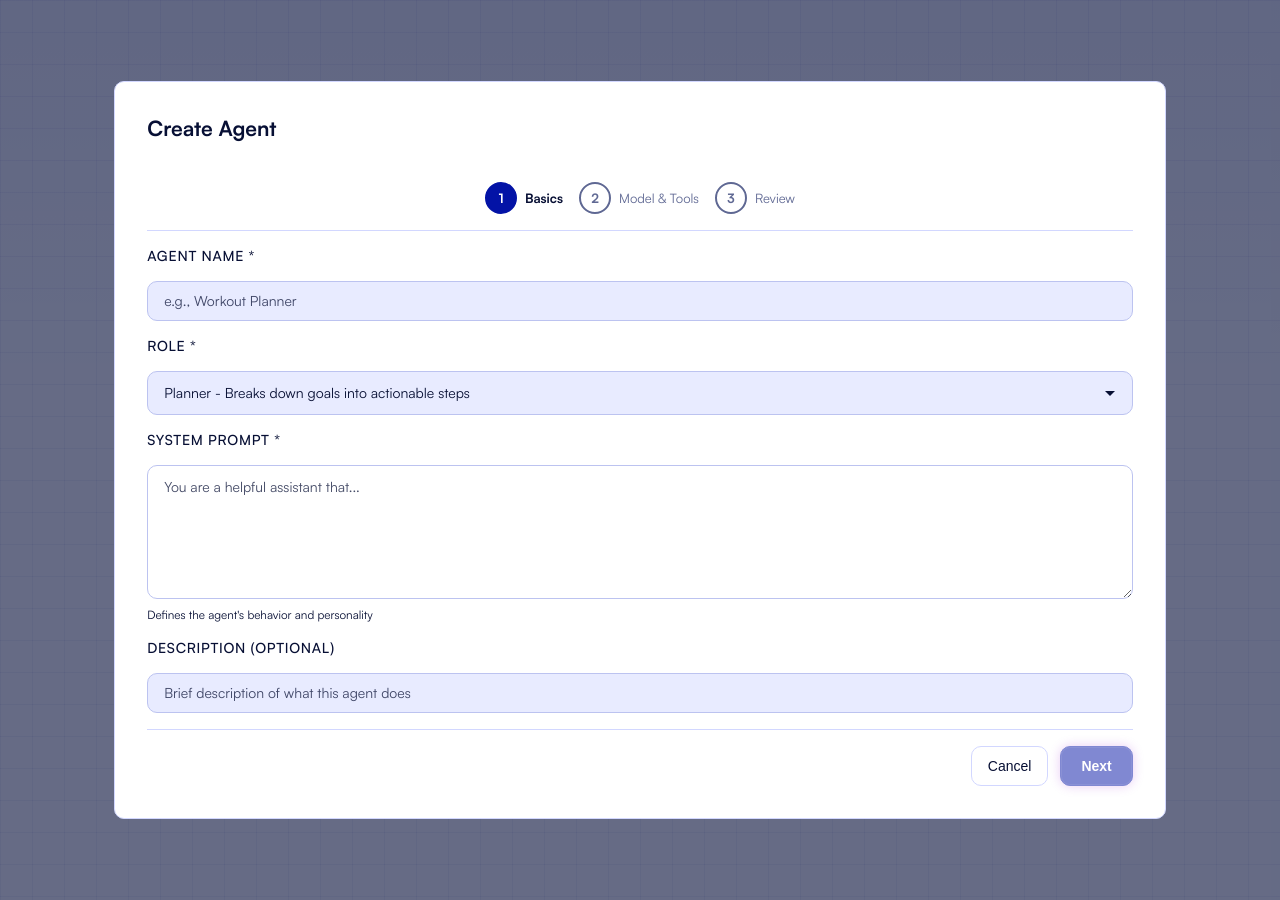
it: AgentBuilderWizard › review shows summary on step 3
Fill step 1
Step 1. Type "Review Agent" into the field with placeholder "e.g., Workout Planner" → point(640, 301), box top-left (147, 281), bottom-right (1133, 321)
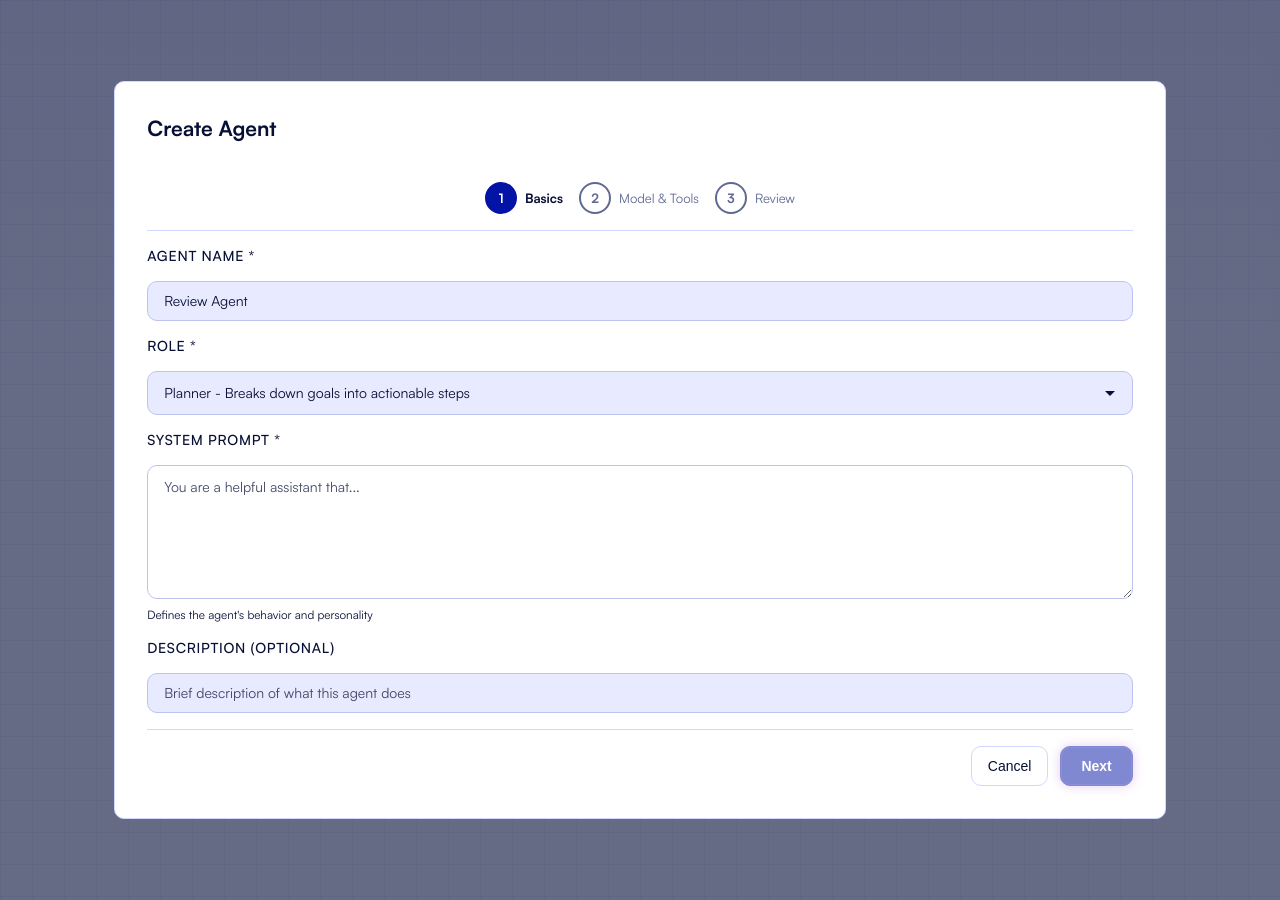
Step 2. Type "A prompt for review." into the text box with placeholder "You are a helpful assistant that..." → point(640, 532), box top-left (147, 465), bottom-right (1133, 599)
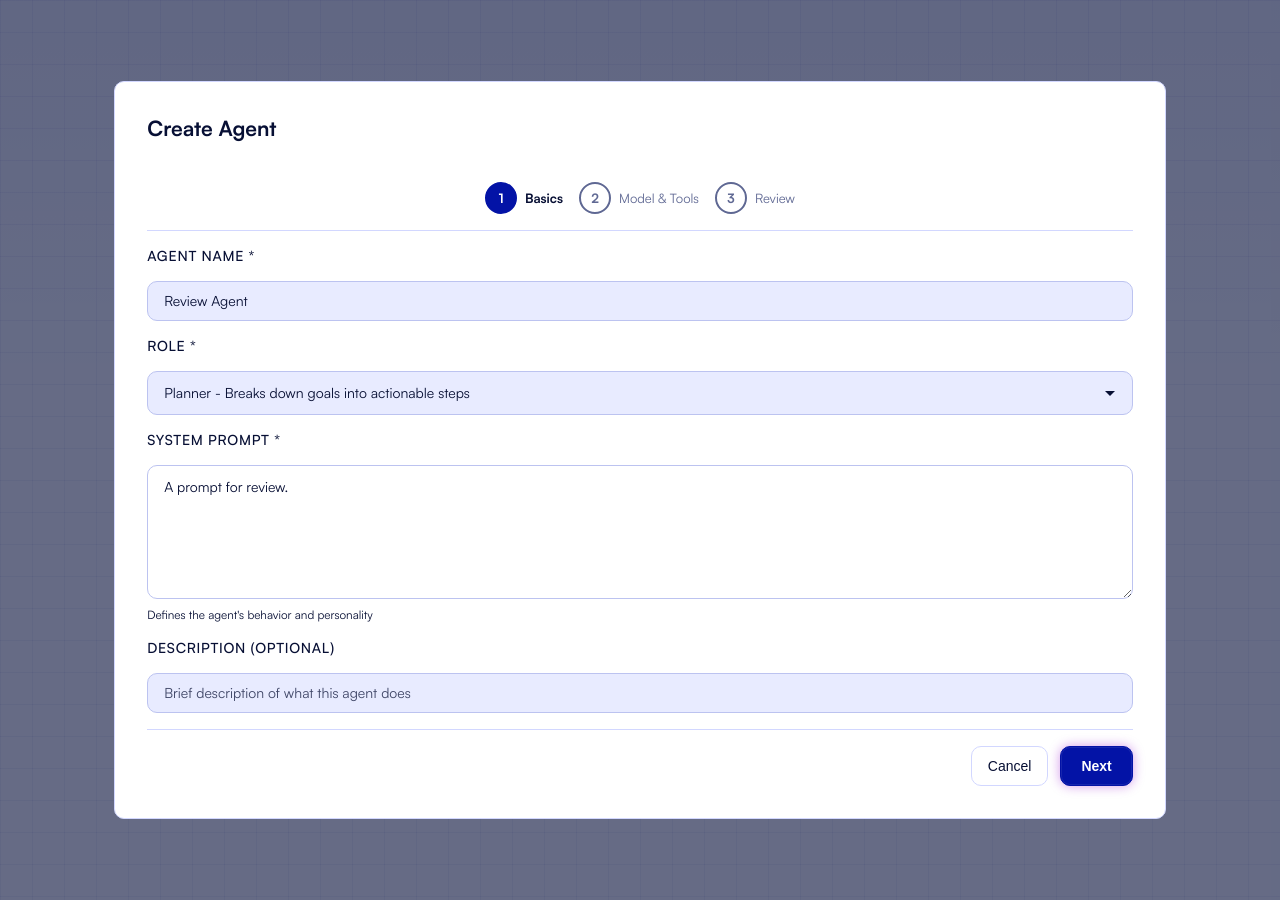
Step 3. Click the button "Next" → point(1097, 766), box top-left (1060, 746), bottom-right (1133, 786)
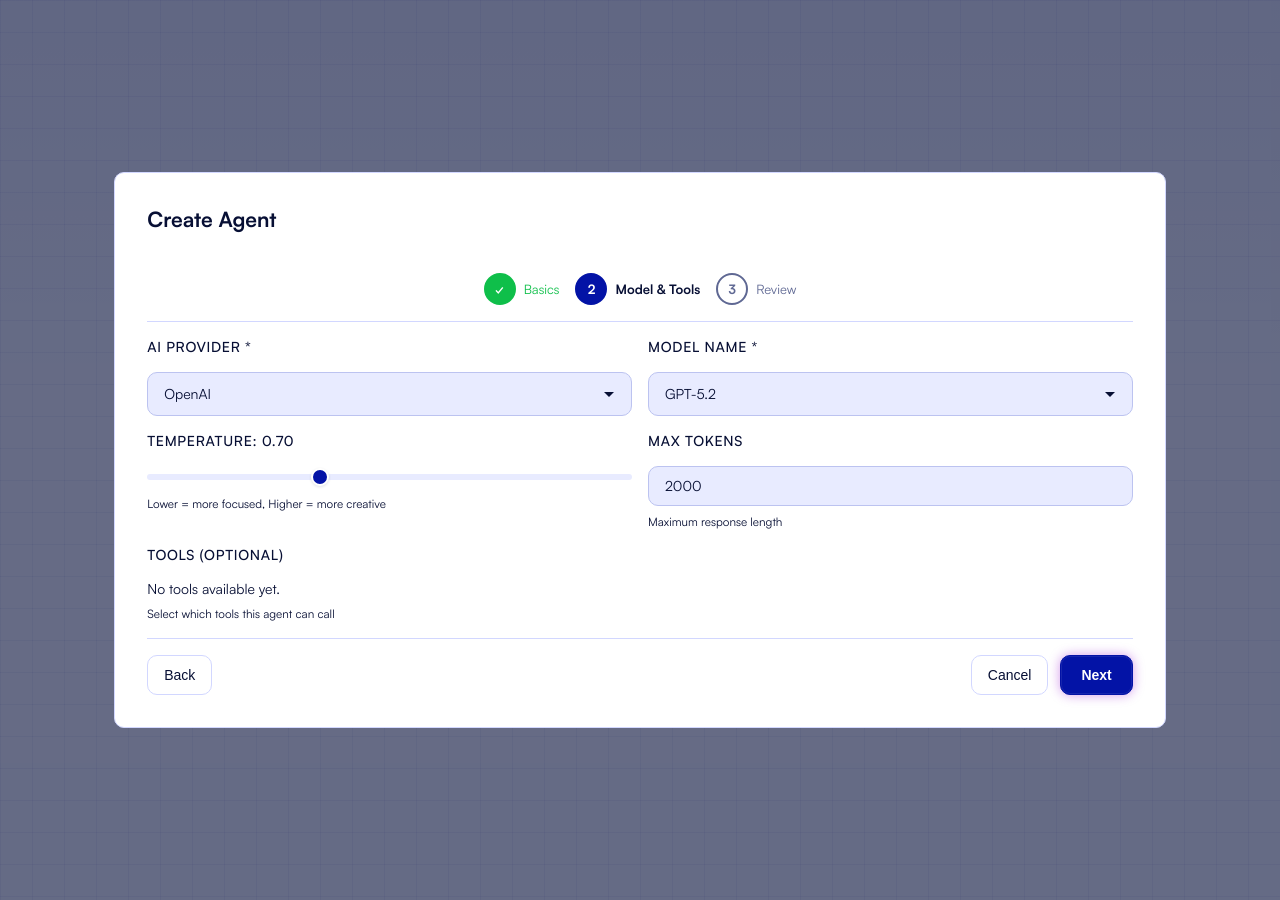
click Next
Step 4. Click the button "Next" → point(1097, 675), box top-left (1060, 655), bottom-right (1133, 695)
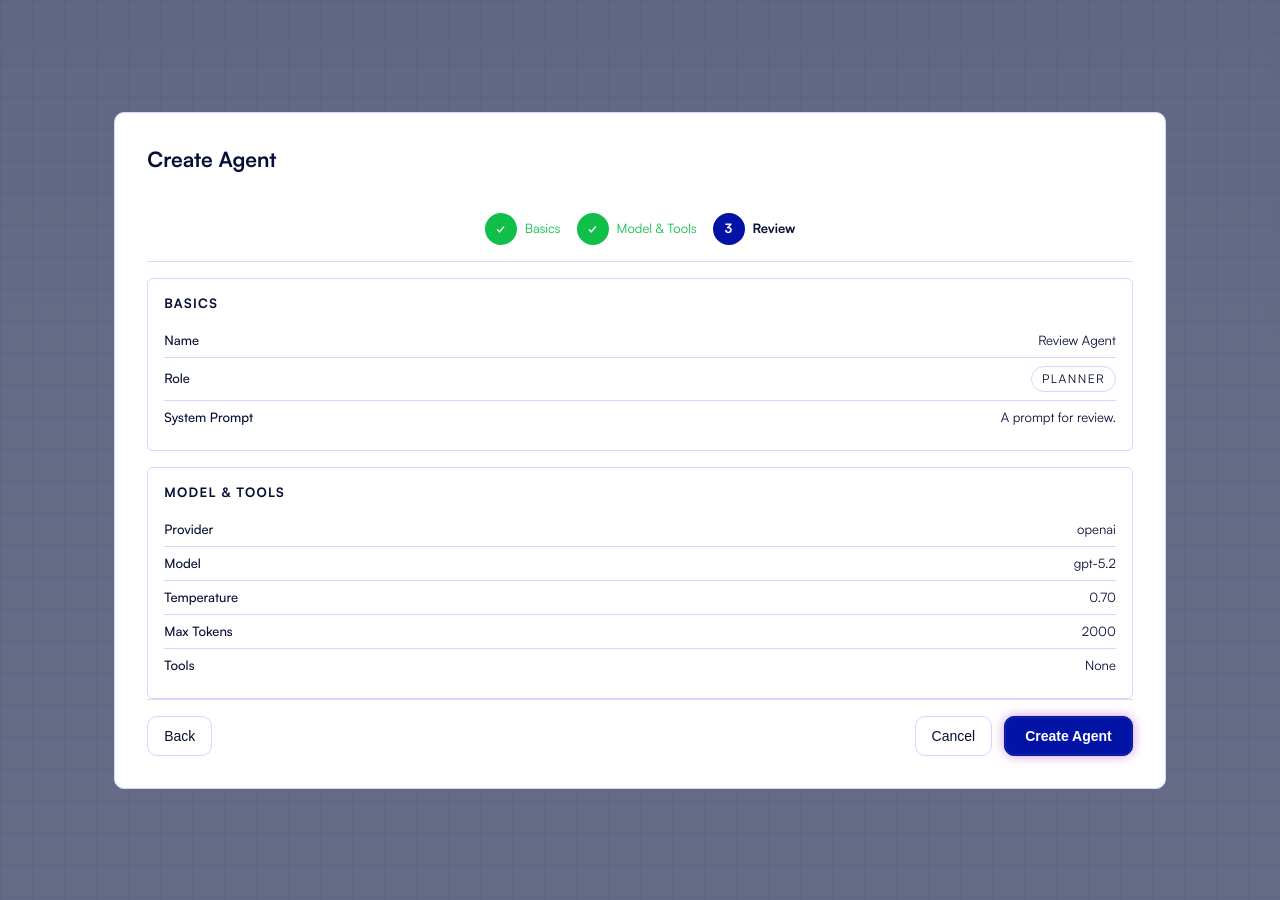
Expected: the text "openai" is shown, top-left (1077, 520), bottom-right (1116, 538)
Expected: the text "Review Agent" is shown, top-left (1038, 332), bottom-right (1116, 348)
Expected: the text "A prompt for review." is shown, top-left (1001, 408), bottom-right (1116, 426)
